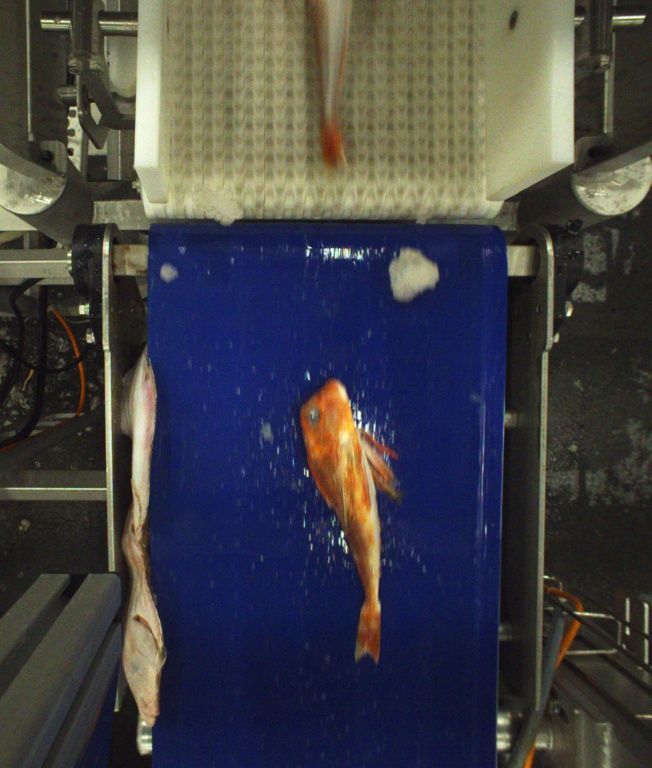GUU: (296, 376, 399, 662)
